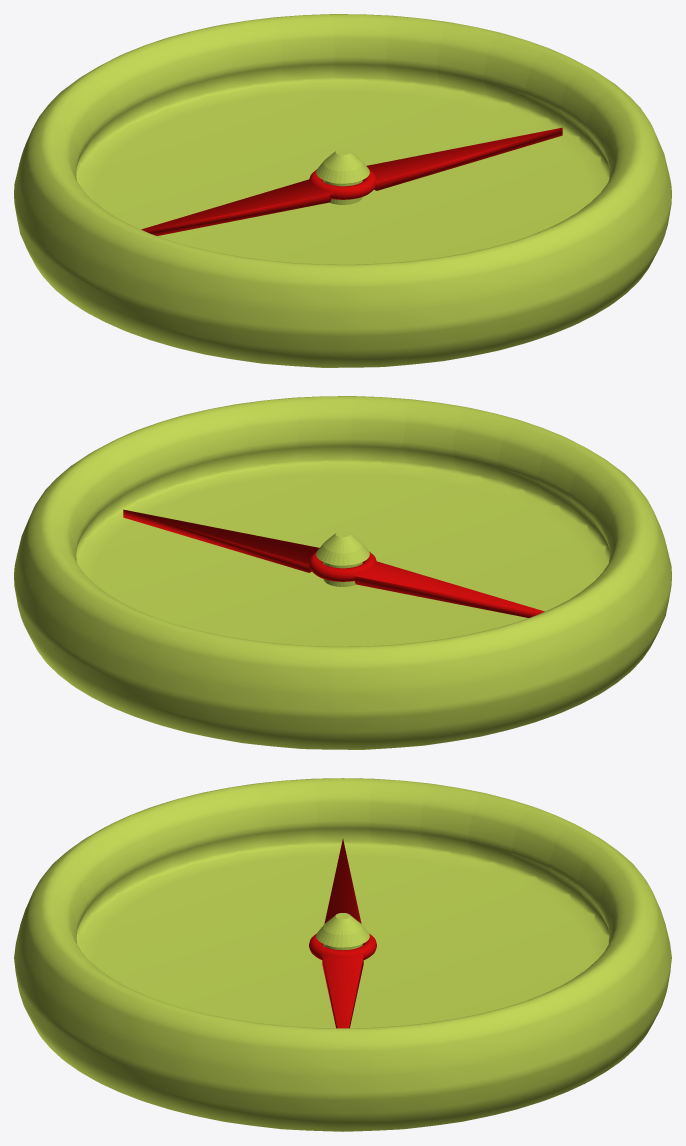
File: bussola.glb
3 views of the same model, one above another, from view 1: azimuth 30°, elevation 25°; view 2: azimuth 150°, elevation 25°; view 3: azimuth 270°, elevation 25° (orthographic).
Visible parts, largest first — view 1: Bussola_Cylinder, Ponteiro_Plane; view 2: Bussola_Cylinder, Ponteiro_Plane; view 3: Bussola_Cylinder, Ponteiro_Plane.
Part boxes in pixels (left/top/right/bottom): Bussola_Cylinder: left=14, top=14, right=671, bottom=367; Ponteiro_Plane: left=141, top=127, right=562, bottom=235; Bussola_Cylinder: left=14, top=396, right=671, bottom=749; Ponteiro_Plane: left=123, top=509, right=544, bottom=617; Bussola_Cylinder: left=14, top=778, right=671, bottom=1131; Ponteiro_Plane: left=309, top=839, right=376, bottom=1028.
Bounding box in the file's own units: 2.08 × 0.3409 × 2.08.
